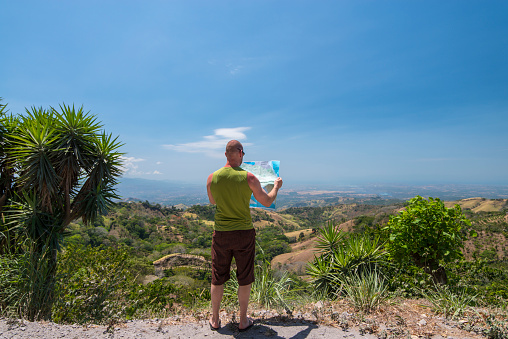em pe: (192, 131, 277, 335)
